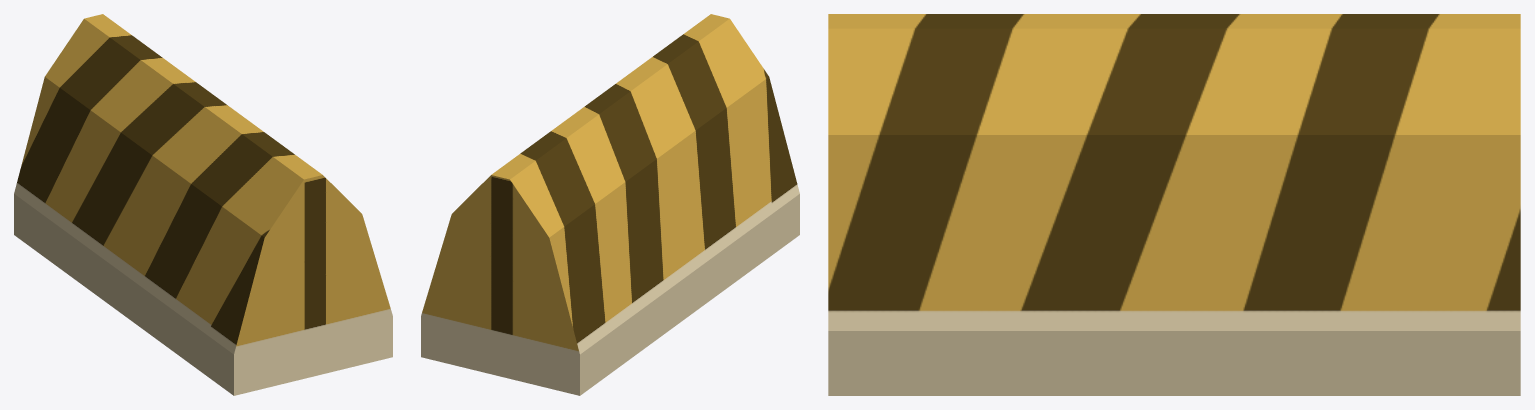
The model's file is Blocker.fbx.
3 renders of one model, left to right at view 1: azimuth 30°, elevation 25°; view 2: azimuth 150°, elevation 25°; view 3: azimuth 270°, elevation 25°, orthographic. The views are drawn at different scales.
Parts seen in each view (by area): view 1: Cube; view 2: Cube; view 3: Cube.
Part boxes in pixels (x1,y1,x2,y2): Cube: (14, 14, 392, 395); Cube: (421, 14, 799, 395); Cube: (828, 14, 1520, 395).
Bounding box in the file's own units: 83.46 × 100 × 200.
Materials: 1 (1 with a texture image).
